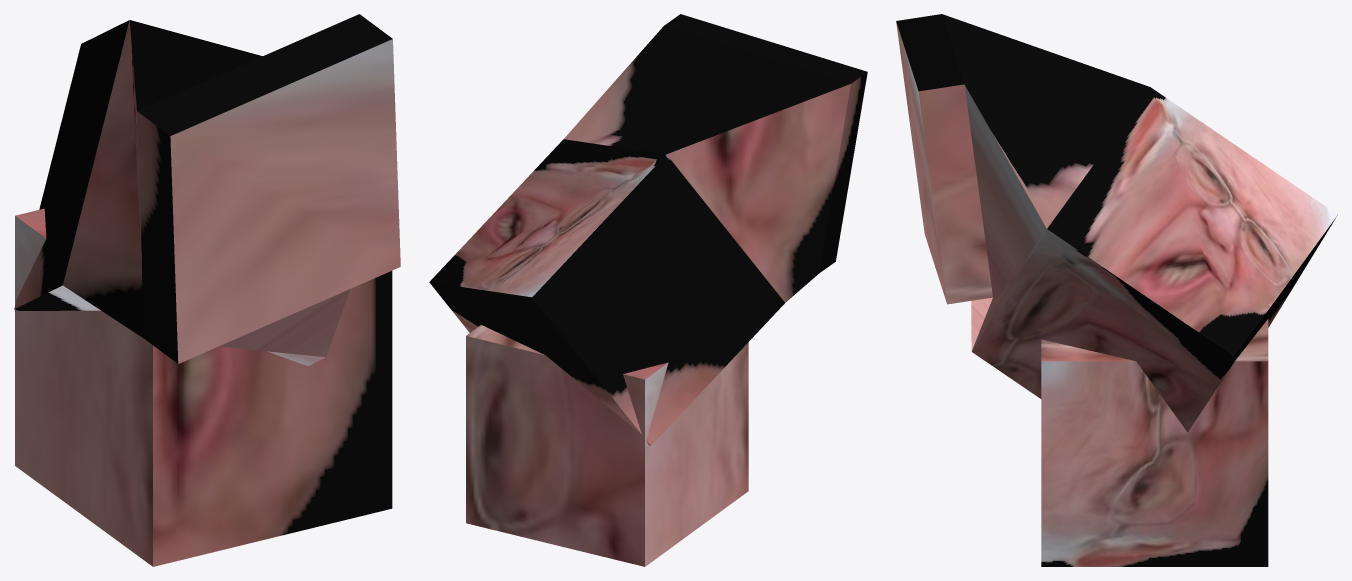
Rendered from bernie_cube.glb.
The picture shows the model from 3 angles, left to right: view 1: azimuth 30°, elevation 25°; view 2: azimuth 150°, elevation 25°; view 3: azimuth 270°, elevation 25°; orthographic projection. The views are drawn at different scales.
Parts seen in each view (by area): view 1: Cube; view 2: Cube; view 3: Cube.
Boxes of the visible parts, x1,y1,x2,y2 form: Cube: [14, 14, 400, 566]; Cube: [429, 14, 867, 566]; Cube: [896, 14, 1337, 566].
Bounding box in the file's own units: 3.22 × 4.38 × 3.89.
1 material, 1 textured.
